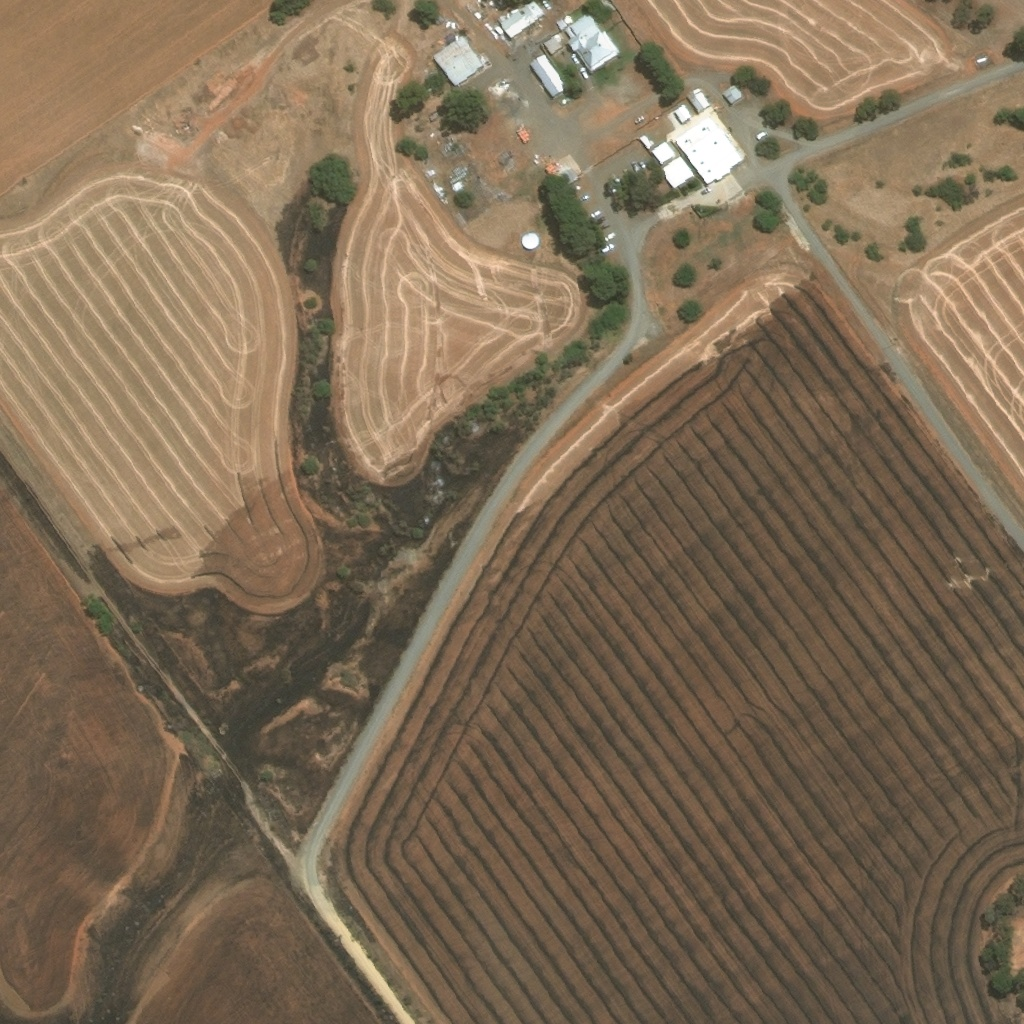0 no-damage: (675, 116, 741, 184), (565, 12, 619, 72), (432, 35, 483, 85), (498, 0, 544, 38), (531, 53, 568, 96), (660, 156, 694, 190), (549, 154, 581, 188), (686, 87, 709, 113), (651, 141, 674, 165), (722, 85, 742, 103), (672, 105, 690, 123), (543, 36, 561, 54), (522, 233, 538, 250), (639, 134, 652, 149), (493, 25, 505, 36), (556, 19, 567, 29), (564, 16, 571, 23)
4 un-classified: (975, 58, 985, 65)
